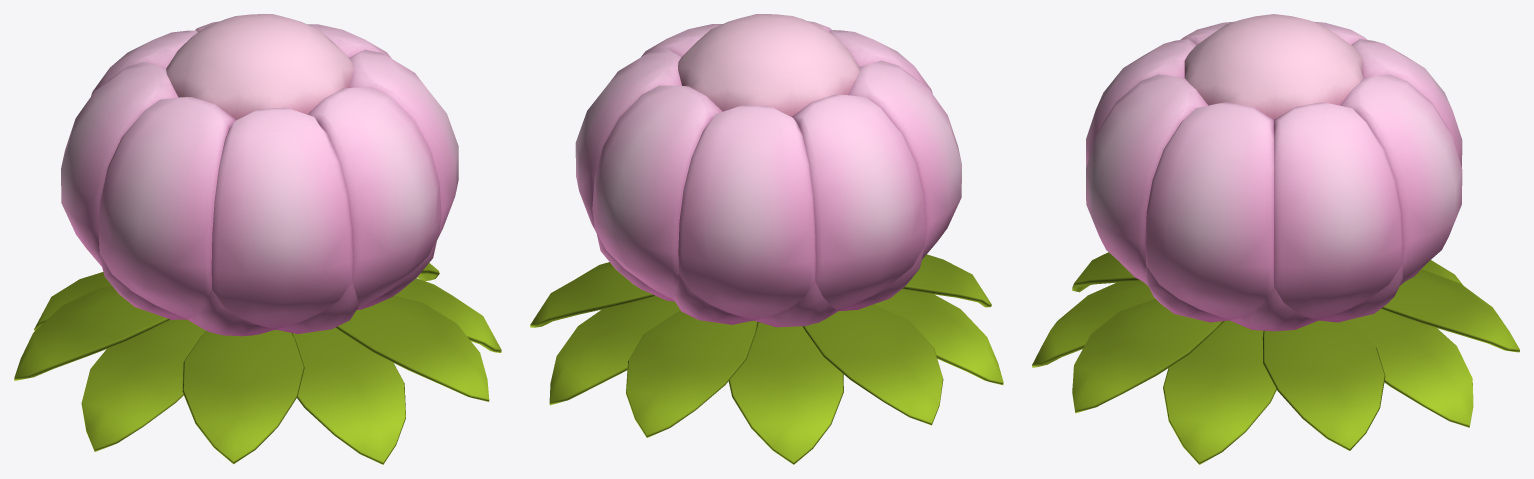
File: fruitSucculent.fbx
The picture shows the model from 3 angles, left to right: view 1: azimuth 30°, elevation 25°; view 2: azimuth 150°, elevation 25°; view 3: azimuth 270°, elevation 25°; orthographic projection. The views are drawn at different scales.
Visible parts, largest first — view 1: fruitSucculent; view 2: fruitSucculent; view 3: fruitSucculent.
Part boxes in pixels (x1,y1,x2,y2): fruitSucculent: (14,14,501,464); fruitSucculent: (530,14,1003,464); fruitSucculent: (1032,14,1519,464).
Size of the model in its own units: 18.02 by 14.46 by 18.8.
Materials: 1 (1 with a texture image).
